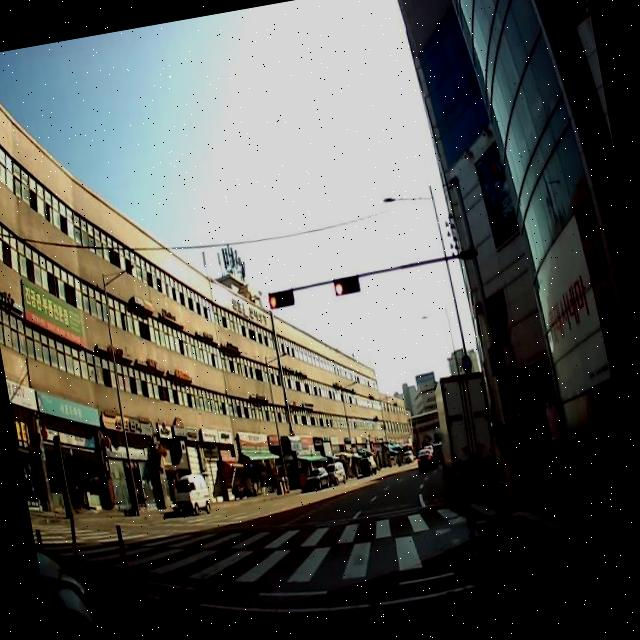crosswalk: (31, 493, 572, 586)
